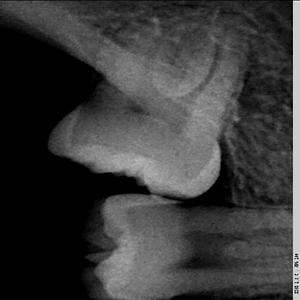tooth: (47, 12, 249, 198), (85, 195, 290, 300)
